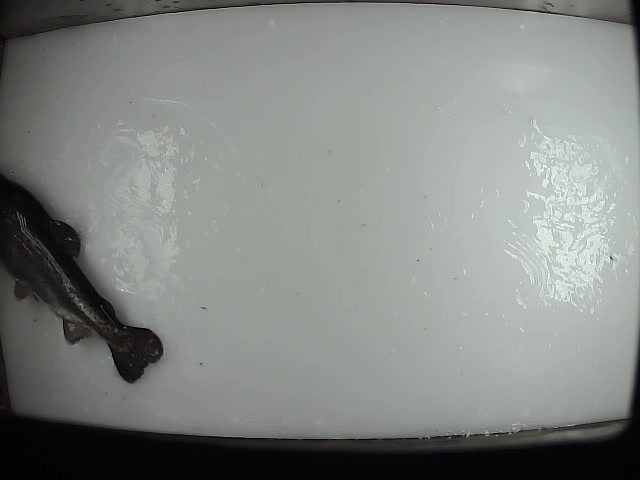fish: (1, 172, 166, 386)
